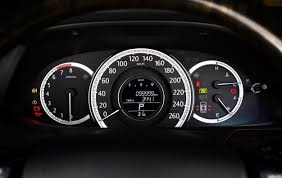Digital_Meter: (125, 88, 159, 98)
